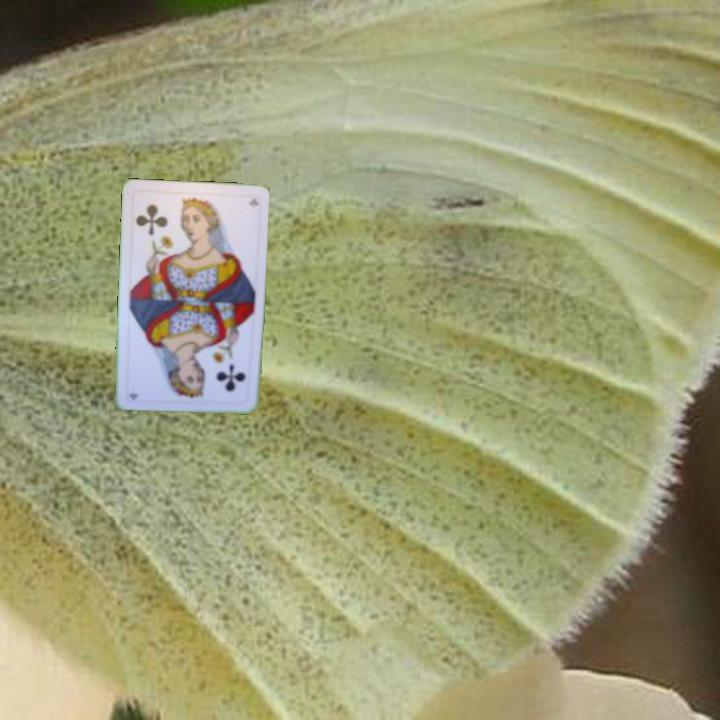c_q.png: (129, 188, 198, 249), (184, 344, 253, 404)
